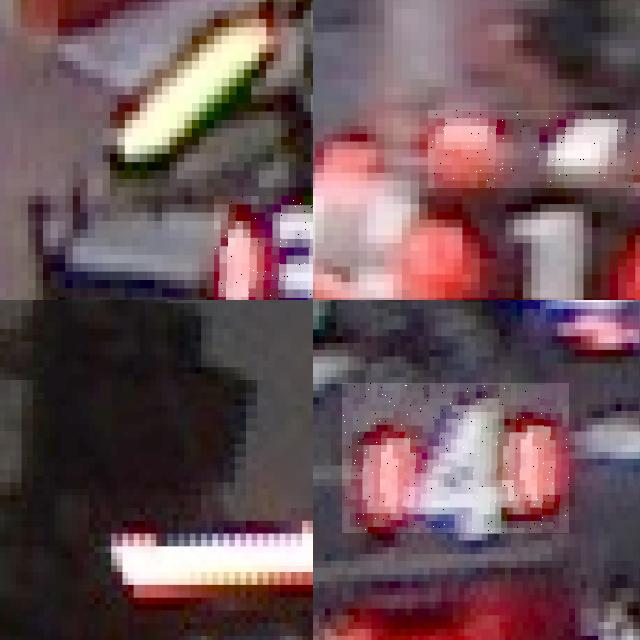R1: (401, 203, 640, 300), (427, 110, 640, 188)
R3: (214, 196, 313, 300)
R4: (342, 384, 569, 534)
